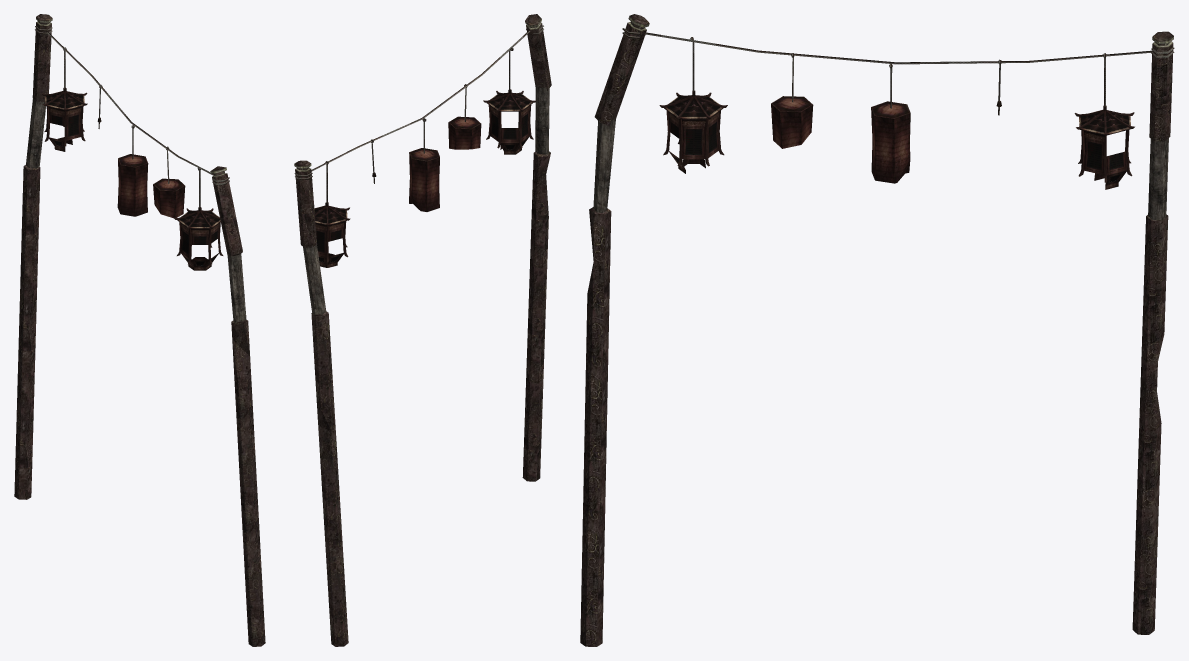
The model's file is TW2_9_ADDONS_12_10_5-transformed.glb.
The picture shows the model from 3 angles, left to right: view 1: azimuth 30°, elevation 25°; view 2: azimuth 150°, elevation 25°; view 3: azimuth 270°, elevation 25°; orthographic projection. The views are drawn at different scales.
Visible parts, largest first — view 1: default; view 2: default; view 3: default.
Boxes of the visible parts, x1,y1,x2,y2 form: default: (14, 14, 265, 646); default: (294, 14, 551, 646); default: (580, 14, 1174, 646).
Size of the model in its own units: 0.8278 by 5.81 by 5.07.
3 materials, 3 textured.
